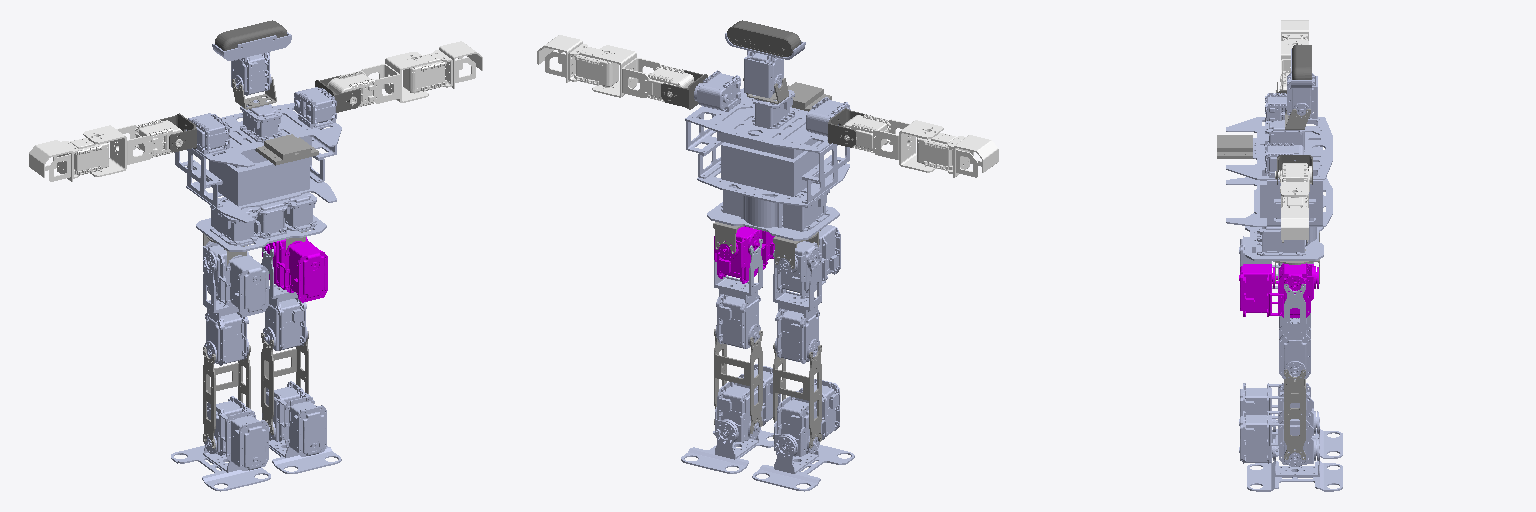
--- What the picture shows (computed from the rendered views, not written in the file) ---
The picture shows the robot from 3 angles, left to right: view 1: azimuth 30°, elevation 25°; view 2: azimuth 150°, elevation 25°; view 3: azimuth 270°, elevation 25°; orthographic projection.
Model robot305_description_imu with 25 links and 24 joints (21 revolute, 3 fixed), rooted at world, posed all joints at 0.
Links seen in each view (by area): view 1: BODY, WAIST, L_ANK_PITCH, R_ANK_PITCH, L_HIP_ROLL, L_SHO_ROLL, R_HIP_ROLL, R_SHO_ROLL, L_HIP_PITCH, L_EL, R_HIP_PITCH, R_EL (+10 smaller); view 2: BODY, WAIST, L_HIP_PITCH, R_HIP_PITCH, L_ANK_PITCH, L_SHO_ROLL, R_SHO_ROLL, L_EL, R_ANK_PITCH, L_HIP_ROLL, R_EL, L_ANK_ROLL (+11 smaller); view 3: BODY, R_HIP_ROLL, R_ANK_PITCH, R_HIP_PITCH, WAIST, R_ANK_ROLL, L_ANK_PITCH, R_KNEE, R_EL, HEAD_TILT, R_SHO_ROLL, IMU (+4 smaller).
Link boxes in pixels (x1,y1,x2,y2): BODY: (175,87,341,222); WAIST: (196,192,326,251); L_ANK_PITCH: (204,396,268,470); R_ANK_PITCH: (262,381,326,456); L_HIP_ROLL: (203,241,268,316); L_SHO_ROLL: (83,120,182,176); R_HIP_ROLL: (262,237,327,302); R_SHO_ROLL: (327,52,428,106); L_HIP_PITCH: (203,255,249,365); L_EL: (29,136,108,181); R_HIP_PITCH: (261,247,307,350); R_EL: (403,41,482,93); BODY: (685,70,850,206); WAIST: (707,183,839,240); L_HIP_PITCH: (773,253,821,363); R_HIP_PITCH: (714,239,762,348); L_ANK_PITCH: (774,379,839,456); L_SHO_ROLL: (841,114,943,172); R_SHO_ROLL: (592,45,693,101); L_EL: (917,131,998,177); R_ANK_PITCH: (715,364,780,441); L_HIP_ROLL: (774,225,840,298); R_EL: (537,35,618,87); L_ANK_ROLL: (752,443,854,491); BODY: (1226,93,1332,226); R_HIP_ROLL: (1239,263,1318,317); R_ANK_PITCH: (1239,410,1318,466); R_HIP_PITCH: (1279,284,1310,379); WAIST: (1245,213,1323,260); R_ANK_ROLL: (1247,444,1342,491); L_ANK_PITCH: (1239,383,1318,433); R_KNEE: (1284,369,1305,459); R_EL: (1281,192,1308,242); HEAD_TILT: (1287,49,1317,118); R_SHO_ROLL: (1275,163,1311,207); IMU: (1217,135,1252,158).
Size in the robot's own frame: 0.6103 by 0.1598 by 0.5658 metres.
24 mesh visuals loaded from 24 distinct referenced files (24 binary STL).

robot.urdf — robot305_description_imu:
<?xml version="1.0" encoding="utf-8"?>
<!-- This URDF was automatically created by SolidWorks to URDF Exporter! Originally created by Stephen Brawner ([email redacted]) 
     Commit Version: 1.6.0-4-g7f85cfe  Build Version: 1.6.7995.38578
     For more information, please see http://wiki.ros.org/sw_urdf_exporter -->
<robot
  name="robot305_description_imu">
  <link name="world">
  </link>

  <joint name="world_fixed" type="fixed">
    <origin xyz="0 0 0.3642" rpy="0 0 1.5708"/>
    <parent link="world"/>
    <child link="BODY"/>
  </joint>
  <link
    name="BODY">
    <inertial>
      <origin
        xyz="-0.0089014 8.8594E-06 0.046409"
        rpy="0 0 0" />
      <mass
        value="0.68737" />
      <inertia
        ixx="0.001"
        ixy="0.0"
        ixz="0.0"
        iyy="0.001"
        iyz="0.0"
        izz="0.001" />
    </inertial>
    <visual>
      <origin
        xyz="0 0 0"
        rpy="0 0 0" />
      <geometry>
        <mesh
          filename="package://robot305_description_imu/meshes/BODY.STL" />
      </geometry>
      <material
        name="">
        <color
          rgba="0.79216 0.81961 0.93333 1" />
      </material>
    </visual>
    <collision>
      <origin
        xyz="0 0 0"
        rpy="0 0 0" />
      <geometry>
        <mesh
          filename="package://robot305_description_imu/meshes/BODY.STL" />
      </geometry>
    </collision>
  </link>
  <link
    name="HEAD_PAN">
    <inertial>
      <origin
        xyz="0.00203856931487195 3.20934481125238E-15 0.00805568439980883"
        rpy="0 0 0" />
      <mass
        value="0.00884401300499875" />
      <inertia
        ixx="0.001"
        ixy="0.0"
        ixz="0.0"
        iyy="0.001"
        iyz="0.0"
        izz="0.001" />
    </inertial>
    <visual>
      <origin
        xyz="0 0 0"
        rpy="0 0 0" />
      <geometry>
        <mesh
          filename="package://robot305_description_imu/meshes/HEAD_PAN.STL" />
      </geometry>
      <material
        name="">
        <color
          rgba="0.698039215686274 0.698039215686274 0.698039215686274 1" />
      </material>
    </visual>
    <collision>
      <origin
        xyz="0 0 0"
        rpy="0 0 0" />
      <geometry>
        <mesh
          filename="package://robot305_description_imu/meshes/HEAD_PAN.STL" />
      </geometry>
    </collision>
  </link>
  <joint
    name="head_pan"
    type="revolute">
    <origin
      xyz="0 0 0.1088"
      rpy="0 0 0" />
    <parent
      link="BODY" />
    <child
      link="HEAD_PAN" />
    <axis
      xyz="0 0 1" />
    <limit
      lower="-2.8274"
      upper="2.8274"
      effort="1000"
      velocity="100" />
    <dynamics
      damping="0.1"
      friction="0" />
  </joint>
  <link
    name="HEAD_TILT">
    <inertial>
      <origin
        xyz="0.000744248588642908 0.000567055400995601 0.0165302540119616"
        rpy="0 0 0" />
      <mass
        value="0.0589790620071985" />
      <inertia
        ixx="0.001"
        ixy="0.0"
        ixz="0.0"
        iyy="0.001"
        iyz="0.0"
        izz="0.001" />
    </inertial>
    <visual>
      <origin
        xyz="0 0 0"
        rpy="0 0 0" />
      <geometry>
        <mesh
          filename="package://robot305_description_imu/meshes/HEAD_TILT.STL" />
      </geometry>
      <material
        name="">
        <color
          rgba="0.792156862745098 0.819607843137255 0.933333333333333 1" />
      </material>
    </visual>
    <collision>
      <origin
        xyz="0 0 0"
        rpy="0 0 0" />
      <geometry>
        <mesh
          filename="package://robot305_description_imu/meshes/HEAD_TILT.STL" />
      </geometry>
    </collision>
  </link>
  <joint
    name="head_tilt"
    type="revolute">
    <origin
      xyz="0.008 0 0.0256"
      rpy="0 0 0" />
    <parent
      link="HEAD_PAN" />
    <child
      link="HEAD_TILT" />
    <axis
      xyz="0 1 0" />
    <limit
      lower="-2.8274"
      upper="2.8274"
      effort="1000"
      velocity="100" />
    <dynamics
      damping="0.1"
      friction="0" />
  </joint>
  <link
    name="Intel_D435i">
    <inertial>
      <origin
        xyz="5.86984459334042E-05 2.77438074049177E-05 2.77555756156289E-17"
        rpy="0 0 0" />
      <mass
        value="0.29999985584757" />
      <inertia
        ixx="0.001"
        ixy="0.0"
        ixz="0.0"
        iyy="0.001"
        iyz="0.0"
        izz="0.001" />
    </inertial>
    <visual>
      <origin
        xyz="0 0 0"
        rpy="0 0 0" />
      <geometry>
        <mesh
          filename="package://robot305_description_imu/meshes/Intel_D435i.STL" />
      </geometry>
      <material
        name="">
        <color
          rgba="0.501960784313725 0.501960784313725 0.501960784313725 1" />
      </material>
    </visual>
    <collision>
      <origin
        xyz="0 0 0"
        rpy="0 0 0" />
      <geometry>
        <mesh
          filename="package://robot305_description_imu/meshes/Intel_D435i.STL" />
      </geometry>
    </collision>
  </link>
  <joint
    name="d435i"
    type="fixed">
    <origin
      xyz="0.001 0.0008 0.0547"
      rpy="0 0 0" />
    <parent
      link="HEAD_TILT" />
    <child
      link="Intel_D435i" />
    <axis
      xyz="0 0 0" />
  </joint>
  <link
    name="L_SHO_PITCH">
    <inertial>
      <origin
        xyz="-0.000105678428481914 0.0103311284711402 0.000104281763278563"
        rpy="0 0 0" />
      <mass
        value="0.0170198320073435" />
      <inertia
        ixx="0.001"
        ixy="0.0"
        ixz="0.0"
        iyy="0.001"
        iyz="0.0"
        izz="0.001" />
    </inertial>
    <visual>
      <origin
        xyz="0 0 0"
        rpy="0 0 0" />
      <geometry>
        <mesh
          filename="package://robot305_description_imu/meshes/L_SHO_PITCH.STL" />
      </geometry>
      <material
        name="">
        <color
          rgba="0.501960784313725 0.501960784313725 0.501960784313725 1" />
      </material>
    </visual>
    <collision>
      <origin
        xyz="0 0 0"
        rpy="0 0 0" />
      <geometry>
        <mesh
          filename="package://robot305_description_imu/meshes/L_SHO_PITCH.STL" />
      </geometry>
    </collision>
  </link>
  <joint
    name="l_sho_pitch"
    type="revolute">
    <origin
      xyz="0 0.09514 0.093"
      rpy="0 0 0" />
    <parent
      link="BODY" />
    <child
      link="L_SHO_PITCH" />
    <axis
      xyz="0 -1 0" />
    <limit
      lower="-2.8274"
      upper="2.8274"
      effort="1000"
      velocity="100" />
    <dynamics
      damping="0.1"
      friction="0" />
  </joint>
  <link
    name="L_SHO_ROLL">
    <inertial>
      <origin
        xyz="0.000660305859717175 0.0273638889981238 -3.32496535014604E-05"
        rpy="0 0 0" />
      <mass
        value="0.0571649744384682" />
      <inertia
        ixx="0.001"
        ixy="0.0"
        ixz="0.0"
        iyy="0.001"
        iyz="0.0"
        izz="0.001" />
    </inertial>
    <visual>
      <origin
        xyz="0 0 0"
        rpy="0 0 0" />
      <geometry>
        <mesh
          filename="package://robot305_description_imu/meshes/L_SHO_ROLL.STL" />
      </geometry>
      <material
        name="">
        <color
          rgba="1 1 1 1" />
      </material>
    </visual>
    <collision>
      <origin
        xyz="0 0 0"
        rpy="0 0 0" />
      <geometry>
        <mesh
          filename="package://robot305_description_imu/meshes/L_SHO_ROLL.STL" />
      </geometry>
    </collision>
  </link>
  <joint
    name="l_sho_roll"
    type="revolute">
    <origin
      xyz="0 0.026 0"
      rpy="0 0 0" />
    <parent
      link="L_SHO_PITCH" />
    <child
      link="L_SHO_ROLL" />
    <axis
      xyz="1 0 0" />
    <limit
      lower="-2.8274"
      upper="2.8274"
      effort="1000"
      velocity="100" />
    <dynamics
      damping="0.1"
      friction="0" />
  </joint>
  <link
    name="L_EL">
    <inertial>
      <origin
        xyz="2.24244067219088E-05 0.022414568729119 0.00164214618288078"
        rpy="0 0 0" />
      <mass
        value="0.0564633803591698" />
      <inertia
        ixx="0.001"
        ixy="0.0"
        ixz="0.0"
        iyy="0.001"
        iyz="0.0"
        izz="0.001" />
    </inertial>
    <visual>
      <origin
        xyz="0 0 0"
        rpy="0 0 0" />
      <geometry>
        <mesh
          filename="package://robot305_description_imu/meshes/L_EL.STL" />
      </geometry>
      <material
        name="">
        <color
          rgba="1 1 1 1" />
      </material>
    </visual>
    <collision>
      <origin
        xyz="0 0 0"
        rpy="0 0 0" />
      <geometry>
        <mesh
          filename="package://robot305_description_imu/meshes/L_EL.STL" />
      </geometry>
    </collision>
  </link>
  <joint
    name="l_el"
    type="revolute">
    <origin
      xyz="6E-05 0.099 0"
      rpy="0 0 0" />
    <parent
      link="L_SHO_ROLL" />
    <child
      link="L_EL" />
    <axis
      xyz="0 0 -1" />
    <limit
      lower="-2.8274"
      upper="2.8274"
      effort="1000"
      velocity="100" />
    <dynamics
      damping="0.1"
      friction="0" />
  </joint>
  <link
    name="R_SHO_PITCH">
    <inertial>
      <origin
        xyz="-0.000104621547146841 -0.0103311265166709 0.000104270870135023"
        rpy="0 0 0" />
      <mass
        value="0.0170198425040673" />
      <inertia
        ixx="0.001"
        ixy="0.0"
        ixz="0.0"
        iyy="0.001"
        iyz="0.0"
        izz="0.001" />
    </inertial>
    <visual>
      <origin
        xyz="0 0 0"
        rpy="0 0 0" />
      <geometry>
        <mesh
          filename="package://robot305_description_imu/meshes/R_SHO_PITCH.STL" />
      </geometry>
      <material
        name="">
        <color
          rgba="0.501960784313725 0.501960784313725 0.501960784313725 1" />
      </material>
    </visual>
    <collision>
      <origin
        xyz="0 0 0"
        rpy="0 0 0" />
      <geometry>
        <mesh
          filename="package://robot305_description_imu/meshes/R_SHO_PITCH.STL" />
      </geometry>
    </collision>
  </link>
  <joint
    name="r_sho_pitch"
    type="revolute">
    <origin
      xyz="0 -0.09514 0.093"
      rpy="0 0 0" />
    <parent
      link="BODY" />
    <child
      link="R_SHO_PITCH" />
    <axis
      xyz="0 -1 0" />
    <limit
      lower="-2.8274"
      upper="2.8274"
      effort="1000"
      velocity="100" />
    <dynamics
      damping="0.1"
      friction="0" />
  </joint>
  <link
    name="R_SHO_ROLL">
    <inertial>
      <origin
        xyz="0.000660305859719581 -0.0273638889976491 1.1047673555642E-05"
        rpy="0 0 0" />
      <mass
        value="0.0571649744384682" />
      <inertia
        ixx="0.001"
        ixy="0.0"
        ixz="0.0"
        iyy="0.001"
        iyz="0.0"
        izz="0.001" />
    </inertial>
    <visual>
      <origin
        xyz="0 0 0"
        rpy="0 0 0" />
      <geometry>
        <mesh
          filename="package://robot305_description_imu/meshes/R_SHO_ROLL.STL" />
      </geometry>
      <material
        name="">
        <color
          rgba="1 1 1 1" />
      </material>
    </visual>
    <collision>
      <origin
        xyz="0 0 0"
        rpy="0 0 0" />
      <geometry>
        <mesh
          filename="package://robot305_description_imu/meshes/R_SHO_ROLL.STL" />
      </geometry>
    </collision>
  </link>
  <joint
    name="r_sho_roll"
    type="revolute">
    <origin
      xyz="0 -0.026 0"
      rpy="0 0 0" />
    <parent
      link="R_SHO_PITCH" />
    <child
      link="R_SHO_ROLL" />
    <axis
      xyz="1 0 0" />
    <limit
      lower="-2.8274"
      upper="2.8274"
      effort="1000"
      velocity="100" />
    <dynamics
      damping="0.1"
      friction="0" />
  </joint>
  <link
    name="R_EL">
    <inertial>
      <origin
        xyz="-2.24240727187515E-05 -0.0224145687294529 0.00164214618288087"
        rpy="0 0 0" />
      <mass
        value="0.0564633803591696" />
      <inertia
        ixx="0.001"
        ixy="0.0"
        ixz="0.0"
        iyy="0.001"
        iyz="0.0"
        izz="0.001" />
    </inertial>
    <visual>
      <origin
        xyz="0 0 0"
        rpy="0 0 0" />
      <geometry>
        <mesh
          filename="package://robot305_description_imu/meshes/R_EL.STL" />
      </geometry>
      <material
        name="">
        <color
          rgba="1 1 1 1" />
      </material>
    </visual>
    <collision>
      <origin
        xyz="0 0 0"
        rpy="0 0 0" />
      <geometry>
        <mesh
          filename="package://robot305_description_imu/meshes/R_EL.STL" />
      </geometry>
    </collision>
  </link>
  <joint
    name="r_el"
    type="revolute">
    <origin
      xyz="6E-05 -0.099 0"
      rpy="0 0 0" />
    <parent
      link="R_SHO_ROLL" />
    <child
      link="R_EL" />
    <axis
      xyz="0 0 -1" />
    <limit
      lower="-2.8274"
      upper="2.8274"
      effort="1000"
      velocity="100" />
    <dynamics
      damping="0.1"
      friction="0" />
  </joint>
  <link
    name="WAIST">
    <inertial>
      <origin
        xyz="-0.023228 -1.6764E-07 -0.032821"
        rpy="0 0 0" />
      <mass
        value="0.25814" />
      <inertia
        ixx="0.001"
        ixy="0.0"
        ixz="0.0"
        iyy="0.001"
        iyz="0.0"
        izz="0.001" />
    </inertial>
    <visual>
      <origin
        xyz="0 0 0"
        rpy="0 0 0" />
      <geometry>
        <mesh
          filename="package://robot305_description_imu/meshes/WAIST.STL" />
      </geometry>
      <material
        name="">
        <color
          rgba="0.79216 0.81961 0.93333 1" />
      </material>
    </visual>
    <collision>
      <origin
        xyz="0 0 0"
        rpy="0 0 0" />
      <geometry>
        <mesh
          filename="package://robot305_description_imu/meshes/WAIST.STL" />
      </geometry>
    </collision>
  </link>
  <joint
    name="waist"
    type="revolute">
    <origin
      xyz="0.01 0 0"
      rpy="0 0 0" />
    <parent
      link="BODY" />
    <child
      link="WAIST" />
    <axis
      xyz="0 0 1" />
    <limit
      lower="-2.8274"
      upper="2.8274"
      effort="1000"
      velocity="100" />
    <dynamics
      damping="0.1"
      friction="0" />
  </joint>
  <link
    name="L_HIP_YAW">
    <inertial>
      <origin
        xyz="0.0020262 -6.8547E-13 -0.0089335"
        rpy="0 0 0" />
      <mass
        value="0.022437" />
      <inertia
        ixx="0.001"
        ixy="0.0"
        ixz="0.0"
        iyy="0.001"
        iyz="0.0"
        izz="0.001" />
    </inertial>
    <visual>
      <origin
        xyz="0 0 0"
        rpy="0 0 0" />
      <geometry>
        <mesh
          filename="package://robot305_description_imu/meshes/L_HIP_YAW.STL" />
      </geometry>
      <material
        name="">
        <color
          rgba="0.69804 0.69804 0.69804 1" />
      </material>
    </visual>
    <collision>
      <origin
        xyz="0 0 0"
        rpy="0 0 0" />
      <geometry>
        <mesh
          filename="package://robot305_description_imu/meshes/L_HIP_YAW.STL" />
      </geometry>
    </collision>
  </link>
  <joint
    name="l_hip_yaw"
    type="revolute">
    <origin
      xyz="-0.01 0.041 -0.0537"
      rpy="0 0 0" />
    <parent
      link="WAIST" />
    <child
      link="L_HIP_YAW" />
    <axis
      xyz="0 0 1" />
    <limit
      lower="-2.8274"
      upper="2.8274"
      effort="1000"
      velocity="100" />
    <dynamics
      damping="0.1"
      friction="0" />
  </joint>
  <link
    name="L_HIP_ROLL">
    <inertial>
      <origin
        xyz="-0.022368 -4.6127E-05 -0.014708"
        rpy="0 0 0" />
      <mass
        value="0.15426" />
      <inertia
        ixx="0.001"
        ixy="0.0"
        ixz="0.0"
        iyy="0.001"
        iyz="0.0"
        izz="0.001" />
    </inertial>
    <visual>
      <origin
        xyz="0 0 0"
        rpy="0 0 0" />
      <geometry>
        <mesh
          filename="package://robot305_description_imu/meshes/L_HIP_ROLL.STL" />
      </geometry>
      <material
        name="">
        <color
          rgba="0.79216 0.81961 0.93333 1" />
      </material>
    </visual>
    <collision>
      <origin
        xyz="0 0 0"
        rpy="0 0 0" />
      <geometry>
        <mesh
          filename="package://robot305_description_imu/meshes/L_HIP_ROLL.STL" />
      </geometry>
    </collision>
  </link>
  <joint
    name="l_hip_roll"
    type="revolute">
    <origin
      xyz="0 0 -0.0345"
      rpy="0 0 0" />
    <parent
      link="L_HIP_YAW" />
    <child
      link="L_HIP_ROLL" />
    <axis
      xyz="1 0 0" />
    <limit
      lower="-2.8274"
      upper="2.8274"
      effort="1000"
      velocity="100" />
    <dynamics
      damping="0.1"
      friction="0" />
  </joint>
  <link
    name="L_HIP_PITCH">
    <inertial>
      <origin
        xyz="-3.436E-06 -0.00020124 -0.09746"
        rpy="0 0 0" />
      <mass
        value="0.085906" />
      <inertia
        ixx="0.001"
        ixy="0.0"
        ixz="0.0"
        iyy="0.001"
        iyz="0.0"
        izz="0.001" />
    </inertial>
    <visual>
      <origin
        xyz="0 0 0"
        rpy="0 0 0" />
      <geometry>
        <mesh
          filename="package://robot305_description_imu/meshes/L_HIP_PITCH.STL" />
      </geometry>
      <material
        name="">
        <color
          rgba="0.79216 0.81961 0.93333 1" />
      </material>
    </visual>
    <collision>
      <origin
        xyz="0 0 0"
        rpy="0 0 0" />
      <geometry>
        <mesh
          filename="package://robot305_description_imu/meshes/L_HIP_PITCH.STL" />
      </geometry>
    </collision>
  </link>
  <joint
    name="l_hip_pitch"
    type="revolute">
    <origin
      xyz="0 0 0"
      rpy="0 0 0.01704" />
    <parent
      link="L_HIP_ROLL" />
    <child
      link="L_HIP_PITCH" />
    <axis
      xyz="0.017039 0.99985 0" />
    <limit
      lower="-2.8274"
      upper="2.8274"
      effort="1000"
      velocity="100" />
    <dynamics
      damping="0.1"
      friction="0" />
  </joint>
  <link
    name="L_KNEE">
    <inertial>
      <origin
        xyz="0.0021571 -0.0004 -0.057639"
        rpy="0 0 0" />
      <mass
        value="0.03206" />
      <inertia
        ixx="0.001"
        ixy="0.0"
        ixz="0.0"
        iyy="0.001"
        iyz="0.0"
        izz="0.001" />
    </inertial>
    <visual>
      <origin
        xyz="0 0 0"
        rpy="0 0 0" />
      <geometry>
        <mesh
          filename="package://robot305_description_imu/meshes/L_KNEE.STL" />
      </geometry>
      <material
        name="">
        <color
          rgba="0.69804 0.69804 0.69804 1" />
      </material>
    </visual>
    <collision>
      <origin
        xyz="0 0 0"
        rpy="0 0 0" />
      <geometry>
        <mesh
          filename="package://robot305_description_imu/meshes/L_KNEE.STL" />
      </geometry>
    </collision>
  </link>
  <joint
    name="l_knee"
    type="revolute">
    <origin
      xyz="0 0 -0.12"
      rpy="0 0 -0.01704" />
    <parent
      link="L_HIP_PITCH" />
    <child
      link="L_KNEE" />
    <axis
      xyz="0 -1 0" />
    <limit
      lower="-2.8274"
      upper="2.8274"
      effort="1000"
      velocity="100" />
    <dynamics
      damping="0.1"
      friction="0" />
  </joint>
  <link
    name="L_ANK_PITCH">
    <inertial>
      <origin
        xyz="-0.022368 -0.00025407 0.014708"
        rpy="0 0 0" />
      <mass
        value="0.15426" />
      <inertia
        ixx="0.001"
        ixy="0.0"
        ixz="0.0"
        iyy="0.001"
        iyz="0.0"
        izz="0.001" />
    </inertial>
    <visual>
      <origin
        xyz="0 0 0"
        rpy="0 0 0" />
      <geometry>
        <mesh
          filename="package://robot305_description_imu/meshes/L_ANK_PITCH.STL" />
      </geometry>
      <material
        name="">
        <color
          rgba="0.79216 0.81961 0.93333 1" />
      </material>
    </visual>
    <collision>
      <origin
        xyz="0 0 0"
        rpy="0 0 0" />
      <geometry>
        <mesh
          filename="package://robot305_description_imu/meshes/L_ANK_PITCH.STL" />
      </geometry>
    </collision>
  </link>
  <joint
    name="l_ank_pitch"
    type="revolute">
    <origin
      xyz="0 0 -0.12"
      rpy="0 0 0" />
    <parent
      link="L_KNEE" />
    <child
      link="L_ANK_PITCH" />
    <axis
      xyz="0 1 0" />
    <limit
      lower="-2.8274"
      upper="2.8274"
      effort="1000"
      velocity="100" />
    <dynamics
      damping="0.1"
      friction="0" />
  </joint>
  <link
    name="L_ANK_ROLL">
    <inertial>
      <origin
        xyz="0.00024893 0.004754 -0.030898"
        rpy="0 0 0" />
      <mass
        value="0.018474" />
      <inertia
        ixx="0.001"
        ixy="0.0"
        ixz="0.0"
        iyy="0.001"
        iyz="0.0"
        izz="0.001" />
    </inertial>
    <visual>
      <origin
        xyz="0 0 0"
        rpy="0 0 0" />
      <geometry>
        <mesh
          filename="package://robot305_description_imu/meshes/L_ANK_ROLL.STL" />
      </geometry>
      <material
        name="">
        <color
          rgba="0.79216 0.81961 0.93333 1" />
      </material>
    </visual>
    <collision>
      <origin
        xyz="0 0 0"
        rpy="0 0 0" />
      <geometry>
        <mesh
          filename="package://robot305_description_imu/meshes/L_ANK_ROLL.STL" />
      </geometry>
    </collision>
  </link>
  <joint
    name="l_ank_roll"
    type="revolute">
    <origin
      xyz="0 0 0"
      rpy="0 0 0" />
    <parent
      link="L_ANK_PITCH" />
    <child
      link="L_ANK_ROLL" />
    <axis
      xyz="1 0 0" />
    <limit
      lower="-2.8274"
      upper="2.8274"
      effort="1000"
      velocity="100" />
    <dynamics
      damping="0.1"
      friction="0" />
  </joint>
  <link
    name="R_HIP_YAW">
    <inertial>
      <origin
        xyz="0.0020262 -6.8548E-13 -0.0089335"
        rpy="0 0 0" />
      <mass
        value="0.022437" />
      <inertia
        ixx="0.001"
        ixy="0.0"
        ixz="0.0"
        iyy="0.001"
        iyz="0.0"
        izz="0.001" />
    </inertial>
    <visual>
      <origin
        xyz="0 0 0"
        rpy="0 0 0" />
      <geometry>
        <mesh
          filename="package://robot305_description_imu/meshes/R_HIP_YAW.STL" />
      </geometry>
      <material
        name="">
        <color
          rgba="0.69804 0.69804 0.69804 1" />
      </material>
    </visual>
    <collision>
      <origin
        xyz="0 0 0"
        rpy="0 0 0" />
      <geometry>
        <mesh
          filename="package://robot305_description_imu/meshes/R_HIP_YAW.STL" />
      </geometry>
    </collision>
  </link>
  <joint
    name="r_hip_yaw"
    type="revolute">
    <origin
      xyz="-0.01 -0.041 -0.0537"
      rpy="0 0 0" />
    <parent
      link="WAIST" />
    <child
      link="R_HIP_YAW" />
    <axis
      xyz="0 0 1" />
    <limit
      lower="-2.8274"
      upper="2.8274"
      effort="1000"
      velocity="100" />
    <dynamics
      damping="0.1"
      friction="0" />
  </joint>
  <link
    name="R_HIP_ROLL">
    <inertial>
      <origin
        xyz="-0.022368 4.6168E-05 -0.014708"
        rpy="0 0 0" />
      <mass
        value="0.15426" />
      <inertia
        ixx="0.001"
        ixy="0.0"
        ixz="0.0"
        iyy="0.001"
        iyz="0.0"
        izz="0.001" />
    </inertial>
    <visual>
      <origin
        xyz="0 0 0"
        rpy="0 0 0" />
      <geometry>
        <mesh
          filename="package://robot305_description_imu/meshes/R_HIP_ROLL.STL" />
      </geometry>
      <material
        name="">
        <color
          rgba="0.9098 0 1 1" />
      </material>
    </visual>
    <collision>
      <origin
        xyz="0 0 0"
        rpy="0 0 0" />
      <geometry>
        <mesh
          filename="package://robot305_description_imu/meshes/R_HIP_ROLL.STL" />
      </geometry>
    </collision>
  </link>
  <joint
    name="r_hip_roll"
    type="revolute">
    <origin
      xyz="0 0 -0.0345"
      rpy="0 0 0" />
    <parent
      link="R_HIP_YAW" />
    <child
      link="R_HIP_ROLL" />
    <axis
      xyz="1 0 0" />
    <limit
      lower="-2.8274"
      upper="2.8274"
      effort="1000"
      velocity="100" />
    <dynamics
      damping="0.1"
      friction="0" />
  </joint>
  <link
    name="R_HIP_PITCH">
    <inertial>
      <origin
        xyz="-3.4229E-06 0.00020124 -0.09746"
        rpy="0 0 0" />
      <mass
        value="0.085906" />
      <inertia
        ixx="0.001"
        ixy="0.0"
        ixz="0.0"
        iyy="0.001"
        iyz="0.0"
        izz="0.001" />
    </inertial>
    <visual>
      <origin
        xyz="0 0 0"
        rpy="0 0 0" />
      <geometry>
        <mesh
          filename="package://robot305_description_imu/meshes/R_HIP_PITCH.STL" />
      </geometry>
      <material
        name="">
        <color
          rgba="0.79216 0.81961 0.93333 1" />
      </material>
    </visual>
    <collision>
      <origin
        xyz="0 0 0"
        rpy="0 0 0" />
      <geometry>
        <mesh
          filename="package://robot305_description_imu/meshes/R_HIP_PITCH.STL" />
      </geometry>
    </collision>
  </link>
  <joint
    name="r_hip_pitch"
    type="revolute">
    <origin
      xyz="0 0 0"
      rpy="0 0 -0.01704" />
    <parent
      link="R_HIP_ROLL" />
    <child
      link="R_HIP_PITCH" />
    <axis
      xyz="-0.017039 0.99985 0" />
    <limit
      lower="-2.8274"
      upper="2.8274"
      effort="1000"
      velocity="100" />
    <dynamics
      damping="0.1"
      friction="0" />
  </joint>
  <link
    name="R_KNEE">
    <inertial>
      <origin
        xyz="0.0021571 0.0004 -0.057639"
        rpy="0 0 0" />
      <mass
        value="0.03206" />
      <inertia
        ixx="0.001"
        ixy="0.0"
        ixz="0.0"
        iyy="0.001"
        iyz="0.0"
        izz="0.001" />
    </inertial>
    <visual>
      <origin
        xyz="0 0 0"
        rpy="0 0 0" />
      <geometry>
        <mesh
          filename="package://robot305_description_imu/meshes/R_KNEE.STL" />
      </geometry>
      <material
        name="">
        <color
          rgba="0.69804 0.69804 0.69804 1" />
      </material>
    </visual>
    <collision>
      <origin
        xyz="0 0 0"
        rpy="0 0 0" />
      <geometry>
        <mesh
          filename="package://robot305_description_imu/meshes/R_KNEE.STL" />
      </geometry>
    </collision>
  </link>
  <joint
    name="r_knee"
    type="revolute">
    <origin
      xyz="0 0 -0.12"
      rpy="0 0 0.01704" />
    <parent
      link="R_HIP_PITCH" />
    <child
      link="R_KNEE" />
    <axis
      xyz="0 -1 0" />
    <limit
      lower="-2.8274"
      upper="2.8274"
      effort="1000"
      velocity="100" />
    <dynamics
      damping="0.1"
      friction="0" />
  </joint>
  <link
    name="R_ANK_PITCH">
    <inertial>
      <origin
        xyz="-0.022368 0.00024661 0.014708"
        rpy="0 0 0" />
      <mass
        value="0.15426" />
      <inertia
        ixx="0.001"
        ixy="0.0"
        ixz="0.0"
        iyy="0.001"
        iyz="0.0"
        izz="0.001" />
    </inertial>
    <visual>
      <origin
        xyz="0 0 0"
        rpy="0 0 0" />
      <geometry>
        <mesh
          filename="package://robot305_description_imu/meshes/R_ANK_PITCH.STL" />
      </geometry>
      <material
        name="">
        <color
          rgba="0.79216 0.81961 0.93333 1" />
      </material>
    </visual>
    <collision>
      <origin
        xyz="0 0 0"
        rpy="0 0 0" />
      <geometry>
        <mesh
          filename="package://robot305_description_imu/meshes/R_ANK_PITCH.STL" />
      </geometry>
    </collision>
  </link>
  <joint
    name="r_ank_pitch"
    type="revolute">
    <origin
      xyz="0 0 -0.12"
      rpy="0 0 0" />
    <parent
      link="R_KNEE" />
    <child
      link="R_ANK_PITCH" />
    <axis
      xyz="0 -1 0" />
    <limit
      lower="-2.8274"
      upper="2.8274"
      effort="1000"
      velocity="100" />
    <dynamics
      damping="0.1"
      friction="0" />
  </joint>
  <link
    name="R_ANK_ROLL">
    <inertial>
      <origin
        xyz="0.00024893 -0.004954 -0.030898"
        rpy="0 0 0" />
      <mass
        value="0.018474" />
      <inertia
        ixx="0.001"
        ixy="0.0"
        ixz="0.0"
        iyy="0.001"
        iyz="0.0"
        izz="0.001" />
    </inertial>
    <visual>
      <origin
        xyz="0 0 0"
        rpy="0 0 0" />
      <geometry>
        <mesh
          filename="package://robot305_description_imu/meshes/R_ANK_ROLL.STL" />
      </geometry>
      <material
        name="">
        <color
          rgba="0.79216 0.81961 0.93333 1" />
      </material>
    </visual>
    <collision>
      <origin
        xyz="0 0 0"
        rpy="0 0 0" />
      <geometry>
        <mesh
          filename="package://robot305_description_imu/meshes/R_ANK_ROLL.STL" />
      </geometry>
    </collision>
  </link>
  <joint
    name="r_ank_roll"
    type="revolute">
    <origin
      xyz="0 0 0"
      rpy="0 0 0" />
    <parent
      link="R_ANK_PITCH" />
    <child
      link="R_ANK_ROLL" />
    <axis
      xyz="1 0 0" />
    <limit
      lower="-2.8274"
      upper="2.8274"
      effort="1000"
      velocity="100" />
    <dynamics
      damping="0.1"
      friction="0" />
  </joint>
  <link
    name="IMU">
    <inertial>
      <origin
        xyz="4.39830229850696E-05 -7.48016657764117E-18 0.00523062431007427"
        rpy="0 0 0" />
      <mass
        value="0.0468998869628787" />
      <inertia
        ixx="0.001"
        ixy="0.0"
        ixz="0.0"
        iyy="0.001"
        iyz="0.0"
        izz="0.001" />
    </inertial>
    <visual>
      <origin
        xyz="0 0 0"
        rpy="0 0 0" />
      <geometry>
        <mesh
          filename="package://robot305_description_imu/meshes/IMU.STL" />
      </geometry>
      <material
        name="">
        <color
          rgba="0.698039215686274 0.698039215686274 0.698039215686274 1" />
      </material>
    </visual>
    <collision>
      <origin
        xyz="0 0 0"
        rpy="0 0 0" />
      <geometry>
        <mesh
          filename="package://robot305_description_imu/meshes/IMU.STL" />
      </geometry>
    </collision>
  </link>
  <joint
    name="imu"
    type="fixed">
    <origin
      xyz="-0.076 0 0.072"
      rpy="0 0 0" />
    <parent
      link="BODY" />
    <child
      link="IMU" />
    <axis
      xyz="0 0 0" />
  </joint>

<gazebo>
    <plugin filename="libgazebo_ros_control.so" name="gazebo_ros_control">
      <robotNamespace>/robot305</robotNamespace>
    </plugin>
  </gazebo>




   <transmission name="t_head_pan">
    <type>transmission_interface/SimpleTransmission</type>
    <joint name="head_pan">
      <hardwareInterface>hardware_interface/EffortJointInterface</hardwareInterface>
    </joint>
    <actuator name="m_head_pan">
      <hardwareInterface>hardware_interface/EffortJointInterface</hardwareInterface>
      <mechanicalReduction>1</mechanicalReduction>
    </actuator>
  </transmission>


   <transmission name="t_head_tilt">
    <type>transmission_interface/SimpleTransmission</type>
    <joint name="head_tilt">
      <hardwareInterface>hardware_interface/EffortJointInterface</hardwareInterface>
    </joint>
    <actuator name="m_head_tilt">
      <hardwareInterface>hardware_interface/EffortJointInterface</hardwareInterface>
      <mechanicalReduction>1</mechanicalReduction>
    </actuator>
  </transmission>


   <transmission name="t_l_sho_pitch">
    <type>transmission_interface/SimpleTransmission</type>
    <joint name="l_sho_pitch">
      <hardwareInterface>hardware_interface/EffortJointInterface</hardwareInterface>
    </joint>
    <actuator name="m_l_sho_pitch">
      <hardwareInterface>hardware_interface/EffortJointInterface</hardwareInterface>
      <mechanicalReduction>1</mechanicalReduction>
    </actuator>
  </transmission>


   <transmission name="t_l_sho_roll">
    <type>transmission_interface/SimpleTransmission</type>
    <joint name="l_sho_roll">
      <hardwareInterface>hardware_interface/EffortJointInterface</hardwareInterface>
    </joint>
    <actuator name="m_l_sho_roll">
      <hardwareInterface>hardware_interface/EffortJointInterface</hardwareInterface>
      <mechanicalReduction>1</mechanicalReduction>
    </actuator>
  </transmission>


   <transmission name="t_l_el">
    <type>transmission_interface/SimpleTransmission</type>
    <joint name="l_el">
      <hardwareInterface>hardware_interface/EffortJointInterface</hardwareInterface>
    </joint>
    <actuator name="m_l_el">
      <hardwareInterface>hardware_interface/EffortJointInterface</hardwareInterface>
      <mechanicalReduction>1</mechanicalReduction>
    </actuator>
  </transmission>


   <transmission name="t_r_sho_pitch">
    <type>transmission_interface/SimpleTransmission</type>
    <joint name="r_sho_pitch">
      <hardwareInterface>hardware_interface/EffortJointInterface</hardwareInterface>
    </joint>
    <actuator name="m_r_sho_pitch">
      <hardwareInterface>hardware_interface/EffortJointInterface</hardwareInterface>
      <mechanicalReduction>1</mechanicalReduction>
    </actuator>
  </transmission>


   <transmission name="t_r_sho_roll">
    <type>transmission_interface/SimpleTransmission</type>
    <joint name="r_sho_roll">
      <hardwareInterface>hardware_interface/EffortJointInterface</hardwareInterface>
    </joint>
    <actuator name="m_r_sho_roll">
      <hardwareInterface>hardware_interface/EffortJointInterface</hardwareInterface>
      <mechanicalReduction>1</mechanicalReduction>
    </actuator>
  </transmission>


   <transmission name="t_r_el">
    <type>transmission_interface/SimpleTransmission</type>
    <joint name="r_el">
      <hardwareInterface>hardware_interface/EffortJointInterface</hardwareInterface>
    </joint>
    <actuator name="m_r_el">
      <hardwareInterface>hardware_interface/EffortJointInterface</hardwareInterface>
      <mechanicalReduction>1</mechanicalReduction>
    </actuator>
  </transmission>


   <transmission name="t_waist">
    <type>transmission_interface/SimpleTransmission</type>
    <joint name="waist">
      <hardwareInterface>hardware_interface/EffortJointInterface</hardwareInterface>
    </joint>
    <actuator name="m_waist">
      <hardwareInterface>hardware_interface/EffortJointInterface</hardwareInterface>
      <mechanicalReduction>1</mechanicalReduction>
    </actuator>
  </transmission>


   <transmission name="t_l_hip_yaw">
    <type>transmission_interface/SimpleTransmission</type>
    <joint name="l_hip_yaw">
        <hardwareInterface>hardware_interface/EffortJointInterface</hardwareInterface>
    </joint>
    <actuator name="m_l_hip_yaw">
      <hardwareInterface>hardware_interface/EffortJointInterface</hardwareInterface>
      <mechanicalReduction>1</mechanicalReduction>
    </actuator>
  </transmission>


   <transmission name="t_l_hip_roll">
    <type>transmission_interface/SimpleTransmission</type>
    <joint name="l_hip_roll">
      <hardwareInterface>hardware_interface/EffortJointInterface</hardwareInterface>
    </joint>
    <actuator name="m_l_hip_roll">
      <hardwareInterface>hardware_interface/EffortJointInterface</hardwareInterface>
      <mechanicalReduction>1</mechanicalReduction>
    </actuator>
  </transmission>


   <transmission name="t_l_hip_pitch">
    <type>transmission_interface/SimpleTransmission</type>
    <joint name="l_hip_pitch">
      <hardwareInterface>hardware_interface/EffortJointInterface</hardwareInterface>
    </joint>
    <actuator name="m_l_hip_pitch">
      <hardwareInterface>hardware_interface/EffortJointInterface</hardwareInterface>
      <mechanicalReduction>1</mechanicalReduction>
    </actuator>
  </transmission>


   <transmission name="t_l_knee">
    <type>transmission_interface/SimpleTransmission</type>
    <joint name="l_knee">
      <hardwareInterface>hardware_interface/EffortJointInterface</hardwareInterface>
    </joint>
    <actuator name="m_l_knee">
      <hardwareInterface>hardware_interface/EffortJointInterface</hardwareInterface>
      <mechanicalReduction>1</mechanicalReduction>
    </actuator>
  </transmission>


   <transmission name="t_l_ank_pitch">
    <type>transmission_interface/SimpleTransmission</type>
    <joint name="l_ank_pitch">
      <hardwareInterface>hardware_interface/EffortJointInterface</hardwareInterface>
    </joint>
    <actuator name="m_l_ank_pitch">
      <hardwareInterface>hardware_interface/EffortJointInterface</hardwareInterface>
      <mechanicalReduction>1</mechanicalReduction>
    </actuator>
  </transmission>


   <transmission name="t_l_ank_roll">
    <type>transmission_interface/SimpleTransmission</type>
    <joint name="l_ank_roll">
      <hardwareInterface>hardware_interface/EffortJointInterface</hardwareInterface>
    </joint>
    <actuator name="m_l_ank_roll">
      <hardwareInterface>hardware_interface/EffortJointInterface</hardwareInterface>
      <mechanicalReduction>1</mechanicalReduction>
    </actuator>
  </transmission>


   <transmission name="t_r_hip_yaw">
    <type>transmission_interface/SimpleTransmission</type>
    <joint name="r_hip_yaw">
      <hardwareInterface>hardware_interface/EffortJointInterface</hardwareInterface>
    </joint>
    <actuator name="m_r_hip_yaw">
      <hardwareInterface>hardware_interface/EffortJointInterface</hardwareInterface>
      <mechanicalReduction>1</mechanicalReduction>
    </actuator>
  </transmission>


   <transmission name="t_r_hip_roll">
    <type>transmission_interface/SimpleTransmission</type>
    <joint name="r_hip_roll">
      <hardwareInterface>hardware_interface/EffortJointInterface</hardwareInterface>
    </joint>
    <actuator name="m_r_hip_roll">
      <hardwareInterface>hardware_interface/EffortJointInterface</hardwareInterface>
      <mechanicalReduction>1</mechanicalReduction>
    </actuator>
  </transmission>

  <transmission name="t_r_hip_pitch">
    <type>transmission_interface/SimpleTransmission</type>
    <joint name="r_hip_pitch">
      <hardwareInterface>hardware_interface/EffortJointInterface</hardwareInterface>
    </joint>
    <actuator name="m_r_hip_pitch">
      <hardwareInterface>hardware_interface/EffortJointInterface</hardwareInterface>
      <mechanicalReduction>1</mechanicalReduction>
    </actuator>
  </transmission>


   <transmission name="t_r_knee">
    <type>transmission_interface/SimpleTransmission</type>
    <joint name="r_knee">
      <hardwareInterface>hardware_interface/EffortJointInterface</hardwareInterface>
    </joint>
    <actuator name="m_r_knee">
      <hardwareInterface>hardware_interface/EffortJointInterface</hardwareInterface>
      <mechanicalReduction>1</mechanicalReduction>
    </actuator>
  </transmission>


   <transmission name="t_r_ank_pitch">
    <type>transmission_interface/SimpleTransmission</type>
    <joint name="r_ank_pitch">
      <hardwareInterface>hardware_interface/EffortJointInterface</hardwareInterface>
    </joint>
    <actuator name="m_r_ank_pitch">
      <hardwareInterface>hardware_interface/EffortJointInterface</hardwareInterface>
      <mechanicalReduction>1</mechanicalReduction>
    </actuator>
  </transmission>


   <transmission name="t_r_ank_roll">
    <type>transmission_interface/SimpleTransmission</type>
    <joint name="r_ank_roll">
      <hardwareInterface>hardware_interface/EffortJointInterface</hardwareInterface>
    </joint>
    <actuator name="m_r_ank_roll">
      <hardwareInterface>hardware_interface/hardware_interface/EffortJointInterface</hardwareInterface>
      <mechanicalReduction>1</mechanicalReduction>
    </actuator>
  </transmission>

<gazebo reference="BODY">
    <mu1>0.2</mu1>
    <mu2>0.2</mu2>
    <material>Gazebo/Grey</material>
    <selfCollide>false</selfCollide>
  </gazebo>

<gazebo reference="R_SHO_ROLL">
    <mu1>0.2</mu1>
    <mu2>0.2</mu2>
    <material>Gazebo/Grey</material>
    <selfCollide>false</selfCollide>
  </gazebo>

<gazebo reference="R_SHO_PITCH">
    <mu1>0.2</mu1>
    <mu2>0.2</mu2>
    <material>Gazebo/Grey</material>
    <selfCollide>false</selfCollide>
  </gazebo>

<gazebo reference="R_EL">
    <mu1>0.2</mu1>
    <mu2>0.2</mu2>
    <material>Gazebo/Grey</material>
    <selfCollide>false</selfCollide>
  </gazebo>

<gazebo reference="R_HIP_YAW">
    <mu1>0.2</mu1>
    <mu2>0.2</mu2>
    <material>Gazebo/Grey</material>
    <selfCollide>false</selfCollide>
  </gazebo>

<gazebo reference="R_HIP_ROLL">
    <mu1>0.2</mu1>
    <mu2>0.2</mu2>
    <material>Gazebo/Grey</material>
    <selfCollide>false</selfCollide>
  </gazebo>

<gazebo reference="R_HIP_ROLL">
    <mu1>0.2</mu1>
    <mu2>0.2</mu2>
    <material>Gazebo/Grey</material>
    <selfCollide>false</selfCollide>
  </gazebo>

<gazebo reference="R_KNEE">
    <mu1>0.2</mu1>
    <mu2>0.2</mu2>
    <material>Gazebo/Grey</material>
    <selfCollide>false</selfCollide>
  </gazebo>

<gazebo reference="R_ANK_PITCH">
    <mu1>0.2</mu1>
    <mu2>0.2</mu2>
    <material>Gazebo/Grey</material>
    <selfCollide>false</selfCollide>
  </gazebo>

<gazebo reference="L_SHO_ROLL">
    <mu1>0.2</mu1>
    <mu2>0.2</mu2>
    <material>Gazebo/Grey</material>
    <selfCollide>false</selfCollide>
  </gazebo>

<gazebo reference="L_SHO_PITCH">
    <mu1>0.2</mu1>
    <mu2>0.2</mu2>
    <material>Gazebo/Grey</material>
    <selfCollide>false</selfCollide>
  </gazebo>

<gazebo reference="L_EL">
    <mu1>0.2</mu1>
    <mu2>0.2</mu2>
    <material>Gazebo/Grey</material>
    <selfCollide>false</selfCollide>
  </gazebo>

<gazebo reference="L_HIP_YAW">
    <mu1>0.2</mu1>
    <mu2>0.2</mu2>
    <material>Gazebo/Grey</material>
    <selfCollide>false</selfCollide>
  </gazebo>

<gazebo reference="L_HIP_ROLL">
    <mu1>0.2</mu1>
    <mu2>0.2</mu2>
    <material>Gazebo/Grey</material>
    <selfCollide>false</selfCollide>
  </gazebo>

<gazebo reference="L_HIP_ROLL">
    <mu1>0.2</mu1>
    <mu2>0.2</mu2>
    <material>Gazebo/Grey</material>
    <selfCollide>false</selfCollide>
  </gazebo>

<gazebo reference="L_KNEE">
    <mu1>0.2</mu1>
    <mu2>0.2</mu2>
    <material>Gazebo/Grey</material>
    <selfCollide>false</selfCollide>
  </gazebo>

<gazebo reference="L_ANK_PITCH">
    <mu1>0.2</mu1>
    <mu2>0.2</mu2>
    <material>Gazebo/Grey</material>
    <selfCollide>false</selfCollide>
  </gazebo>

<gazebo reference="HEAD_TILT">
    <mu1>0.2</mu1>
    <mu2>0.2</mu2>
    <material>Gazebo/WhiteGlow</material>
    <selfCollide>false</selfCollide>
  </gazebo>

<gazebo reference="HEAD_PAN">
    <mu1>0.2</mu1>
    <mu2>0.2</mu2>
    <material>Gazebo/Grey</material>
    <selfCollide>false</selfCollide>
  </gazebo>

<gazebo reference="WAIST">
    <mu1>0.2</mu1>
    <mu2>0.2</mu2>
    <material>Gazebo/White</material>
    <selfCollide>false</selfCollide>
  </gazebo>

<gazebo reference="L_ANK_ROLL">
    <material>Gazebo/Yellow</material>
    <kp>100000.0</kp>
    <kd>100.0</kd>
    <mu1>1.5</mu1>
    <mu2>1.5</mu2>
    <fdir1>1 0 0</fdir1>
    <maxVel>1.0</maxVel>
    <minDepth>0.001</minDepth>
  </gazebo>



<gazebo reference="R_ANK_ROLL">
    <material>Gazebo/Green</material>
    <kp>100000.0</kp>
    <kd>100.0</kd>
    <mu1>1.5</mu1>
    <mu2>1.5</mu2>
    <fdir1>1 0 0</fdir1>
    <maxVel>1.0</maxVel>
    <minDepth>0.001</minDepth>
  </gazebo>


<gazebo reference="">


    <material>Gazebo/Grey</material>

  </gazebo>
</robot>
